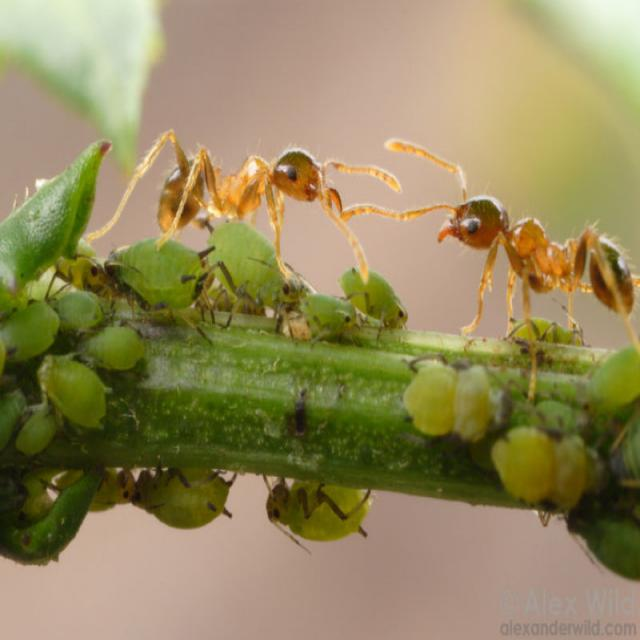Aphid-Grown-: (392, 342, 516, 449), (103, 224, 224, 322), (198, 214, 314, 316), (34, 344, 121, 440), (335, 254, 416, 352), (78, 309, 156, 381), (58, 284, 110, 333)
